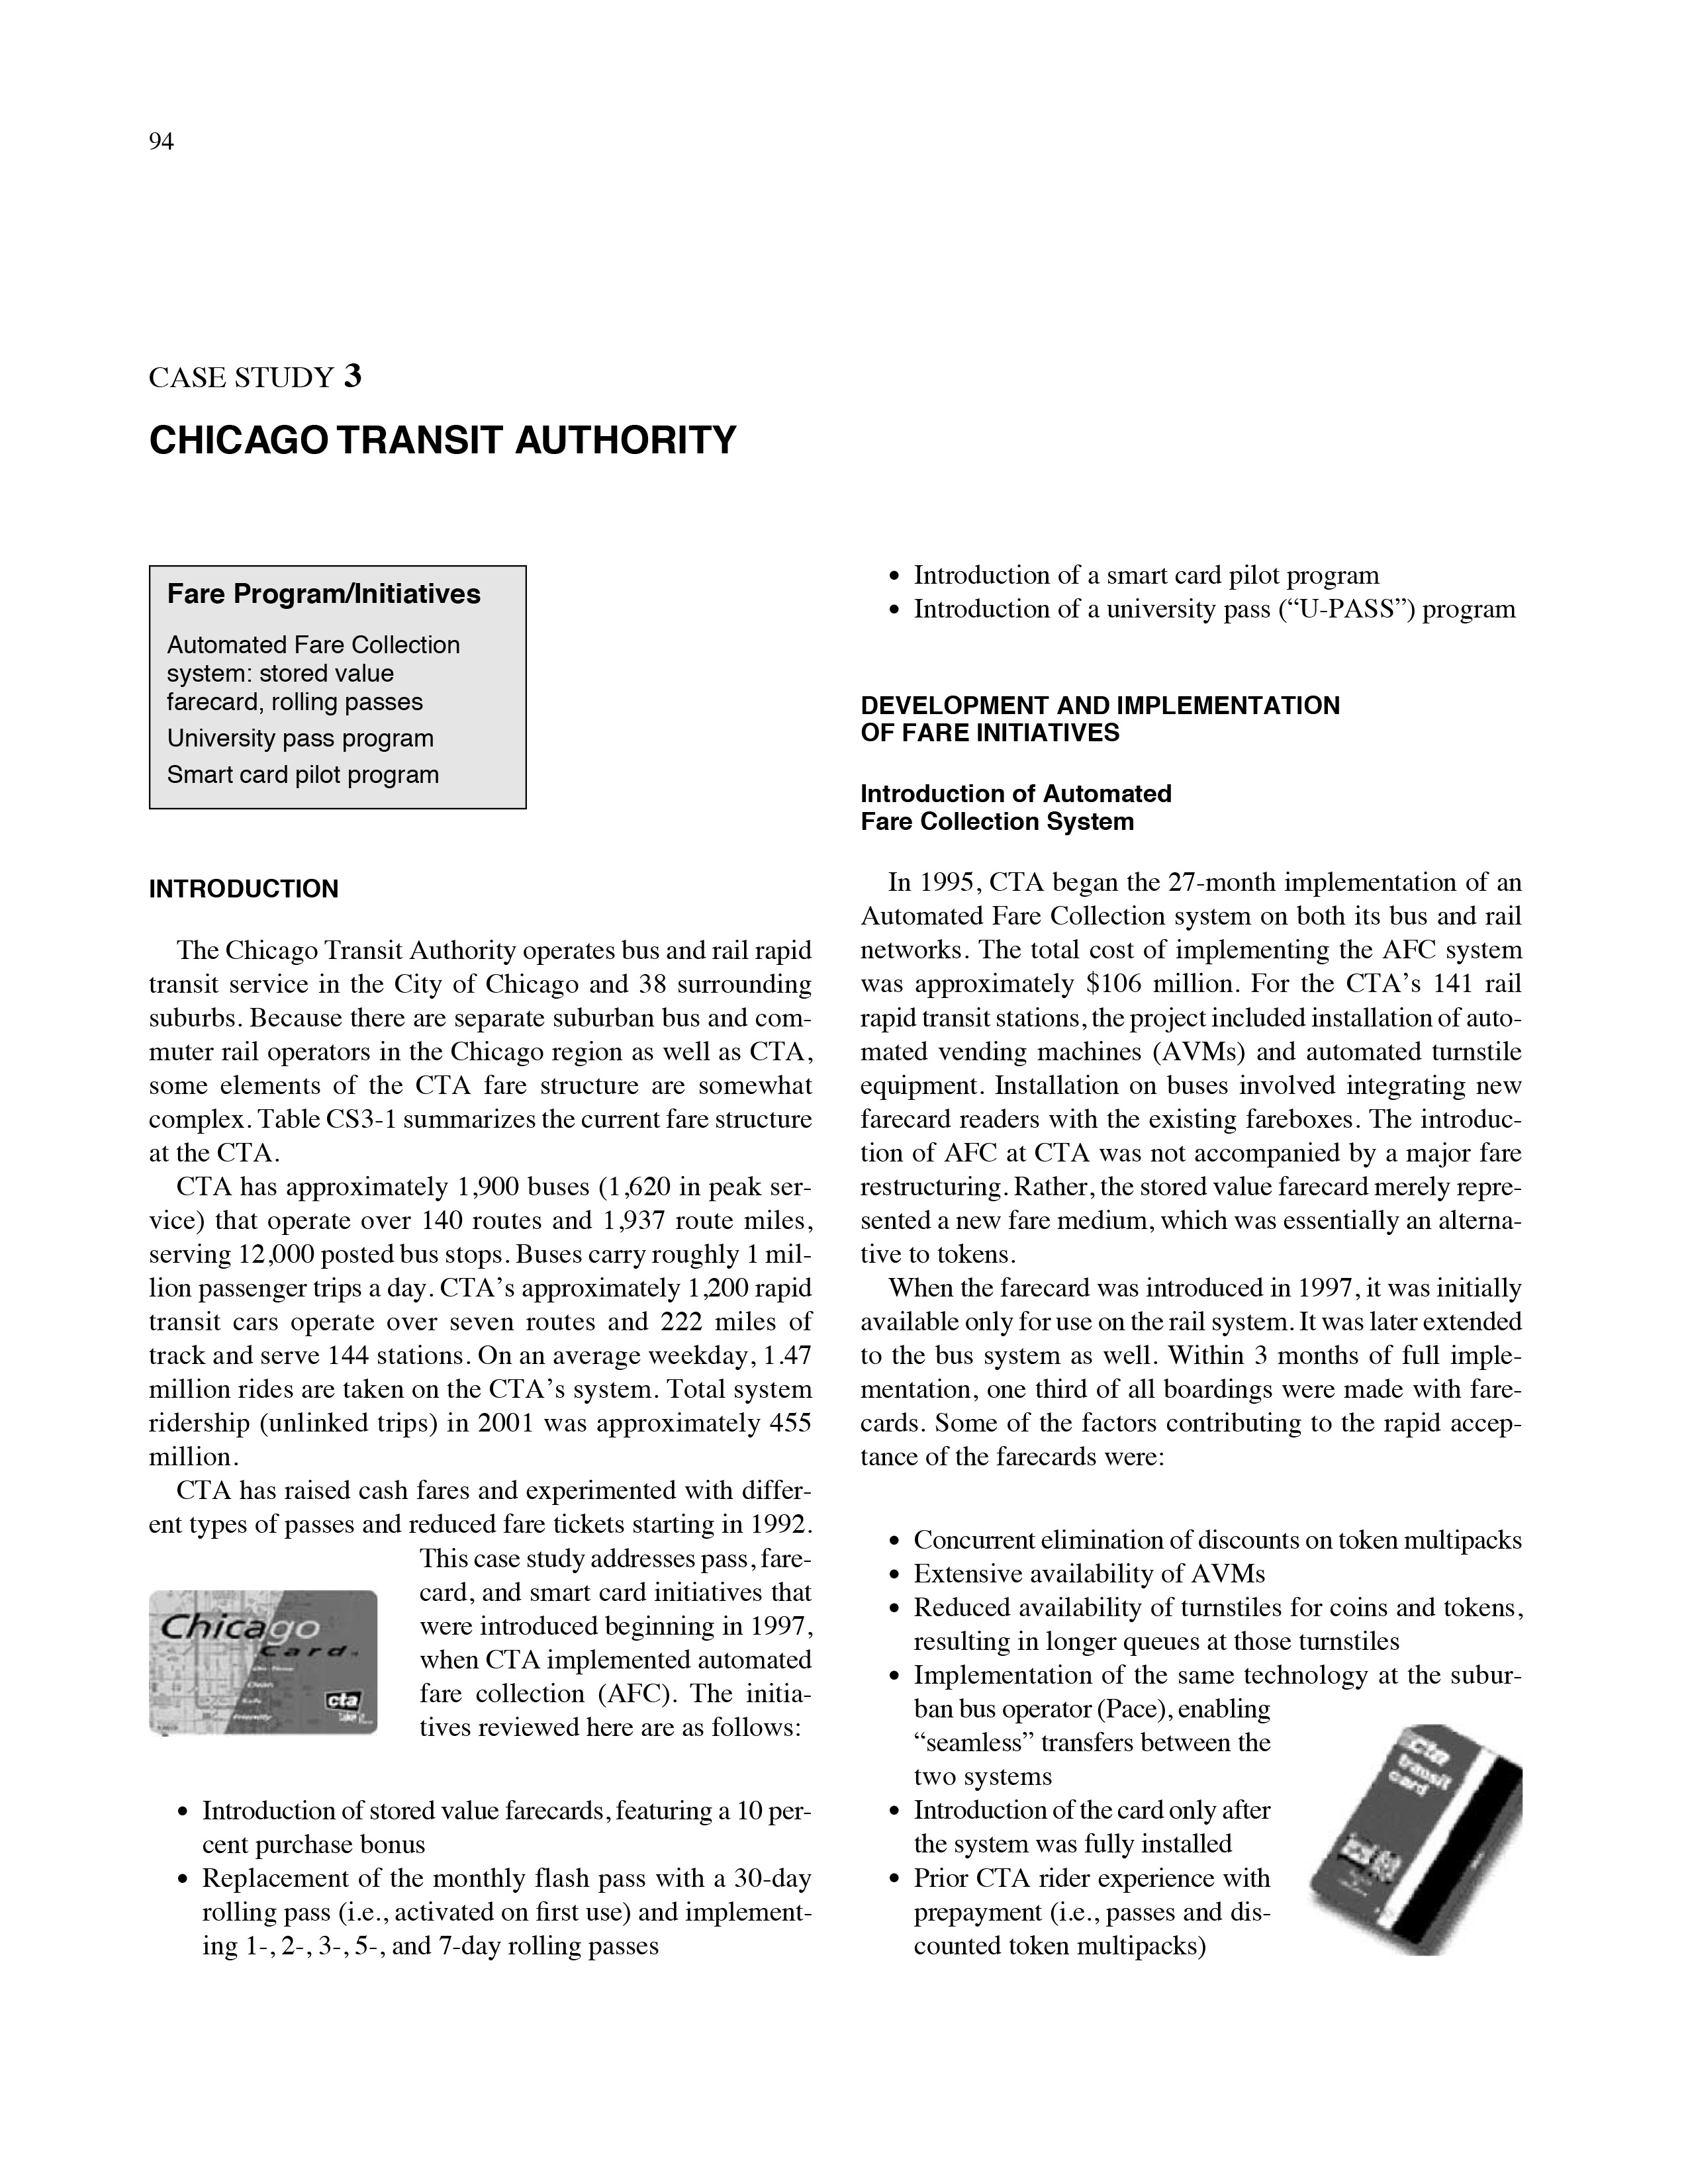figure: (1296, 1732, 1539, 1978), (160, 1587, 376, 1737)
list: (872, 1517, 1278, 1966), (160, 1790, 816, 1978), (883, 548, 1523, 628), (1289, 1521, 1530, 1705)
section: (142, 399, 739, 466), (839, 690, 1362, 753), (846, 780, 1186, 853), (138, 333, 367, 397), (160, 573, 493, 612), (122, 872, 356, 918)
text: (860, 865, 1521, 1275), (129, 1163, 833, 1471), (129, 938, 819, 1159), (853, 1292, 1521, 1484), (410, 1533, 823, 1748), (152, 635, 456, 810), (133, 1480, 823, 1537)
